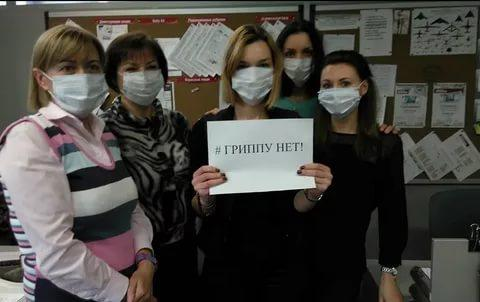mask: (46, 40, 102, 109), (230, 41, 270, 105), (318, 62, 361, 116), (121, 46, 164, 100), (280, 34, 314, 86)
